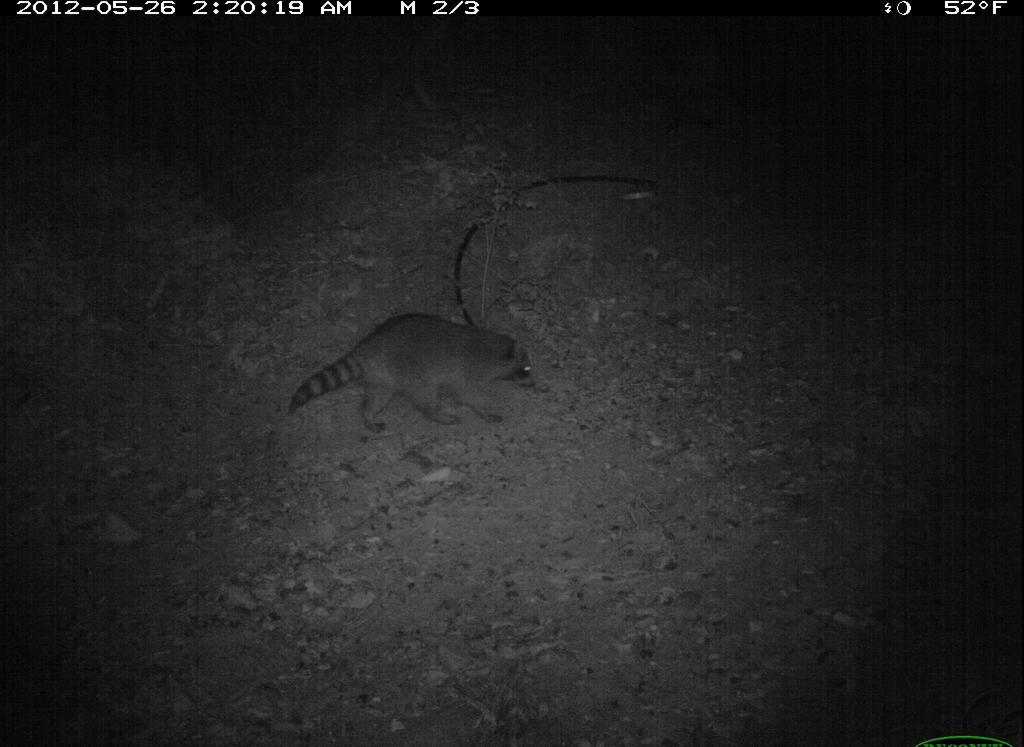raccoon: (270, 302, 552, 449)
